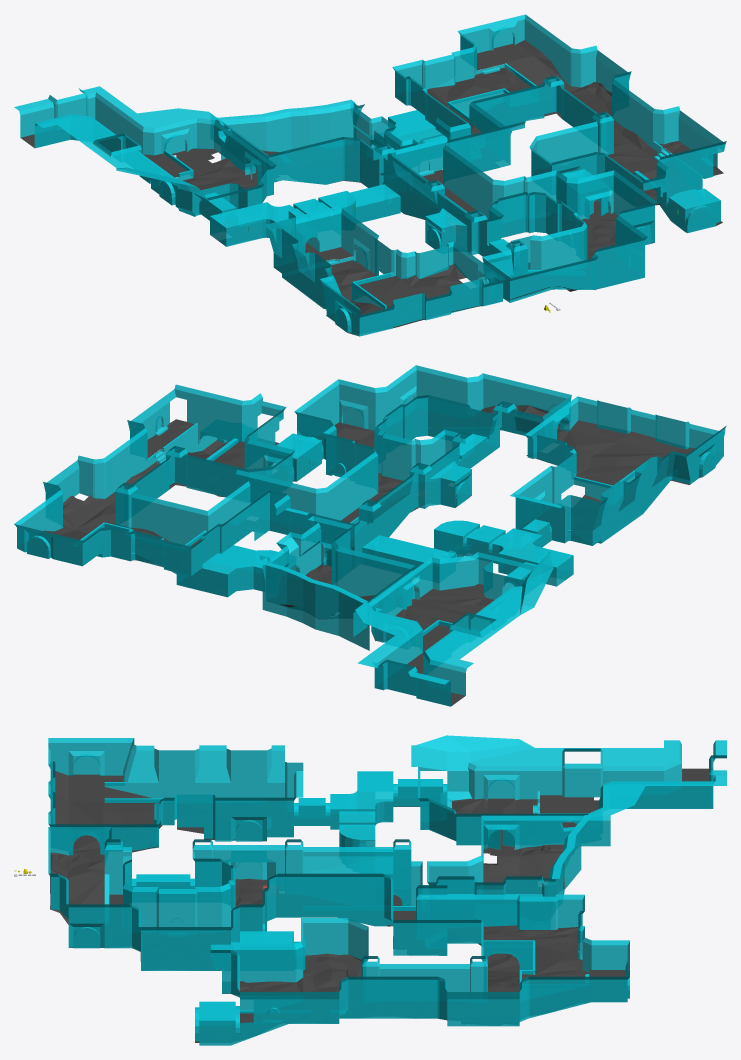
The model's file is 沙漠2地图放大.fbx.
3 views of the same model, one above another, from view 1: azimuth 30°, elevation 25°; view 2: azimuth 150°, elevation 25°; view 3: azimuth 270°, elevation 25° (orthographic). The views are drawn at different scales.
Parts seen in each view (by area): view 1: 对象018, 对象006; view 2: 对象018, 对象006; view 3: 对象018, 对象006.
Part boxes in pixels (x1,y1,x2,y2): 对象018: [14, 14, 726, 336]; 对象006: [20, 40, 723, 333]; 对象018: [14, 365, 726, 706]; 对象006: [43, 405, 715, 706]; 对象018: [48, 735, 726, 1045]; 对象006: [50, 768, 708, 1042].
Bounding box in the file's own units: 681746 × 95505 × 789823.
